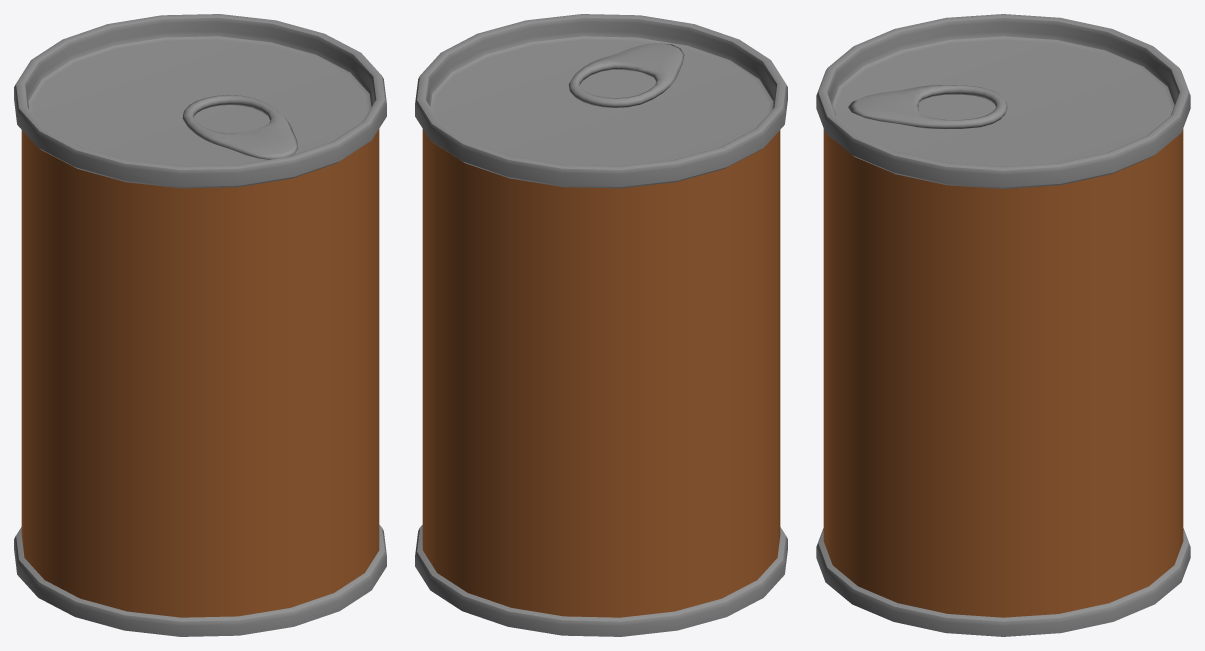
File: lata de comida2.fbx
3 renders of one model, left to right at view 1: azimuth 30°, elevation 25°; view 2: azimuth 150°, elevation 25°; view 3: azimuth 270°, elevation 25°, orthographic.
Parts seen in each view (by area): view 1: pCube2; view 2: pCube2; view 3: pCube2.
Part boxes in pixels (x1=…): pCube2: x1=14, y1=14, x2=386, y2=636; pCube2: x1=415, y1=14, x2=787, y2=636; pCube2: x1=816, y1=14, x2=1190, y2=636.
Bounding box in the file's own units: 7.96 × 10.95 × 7.96.
